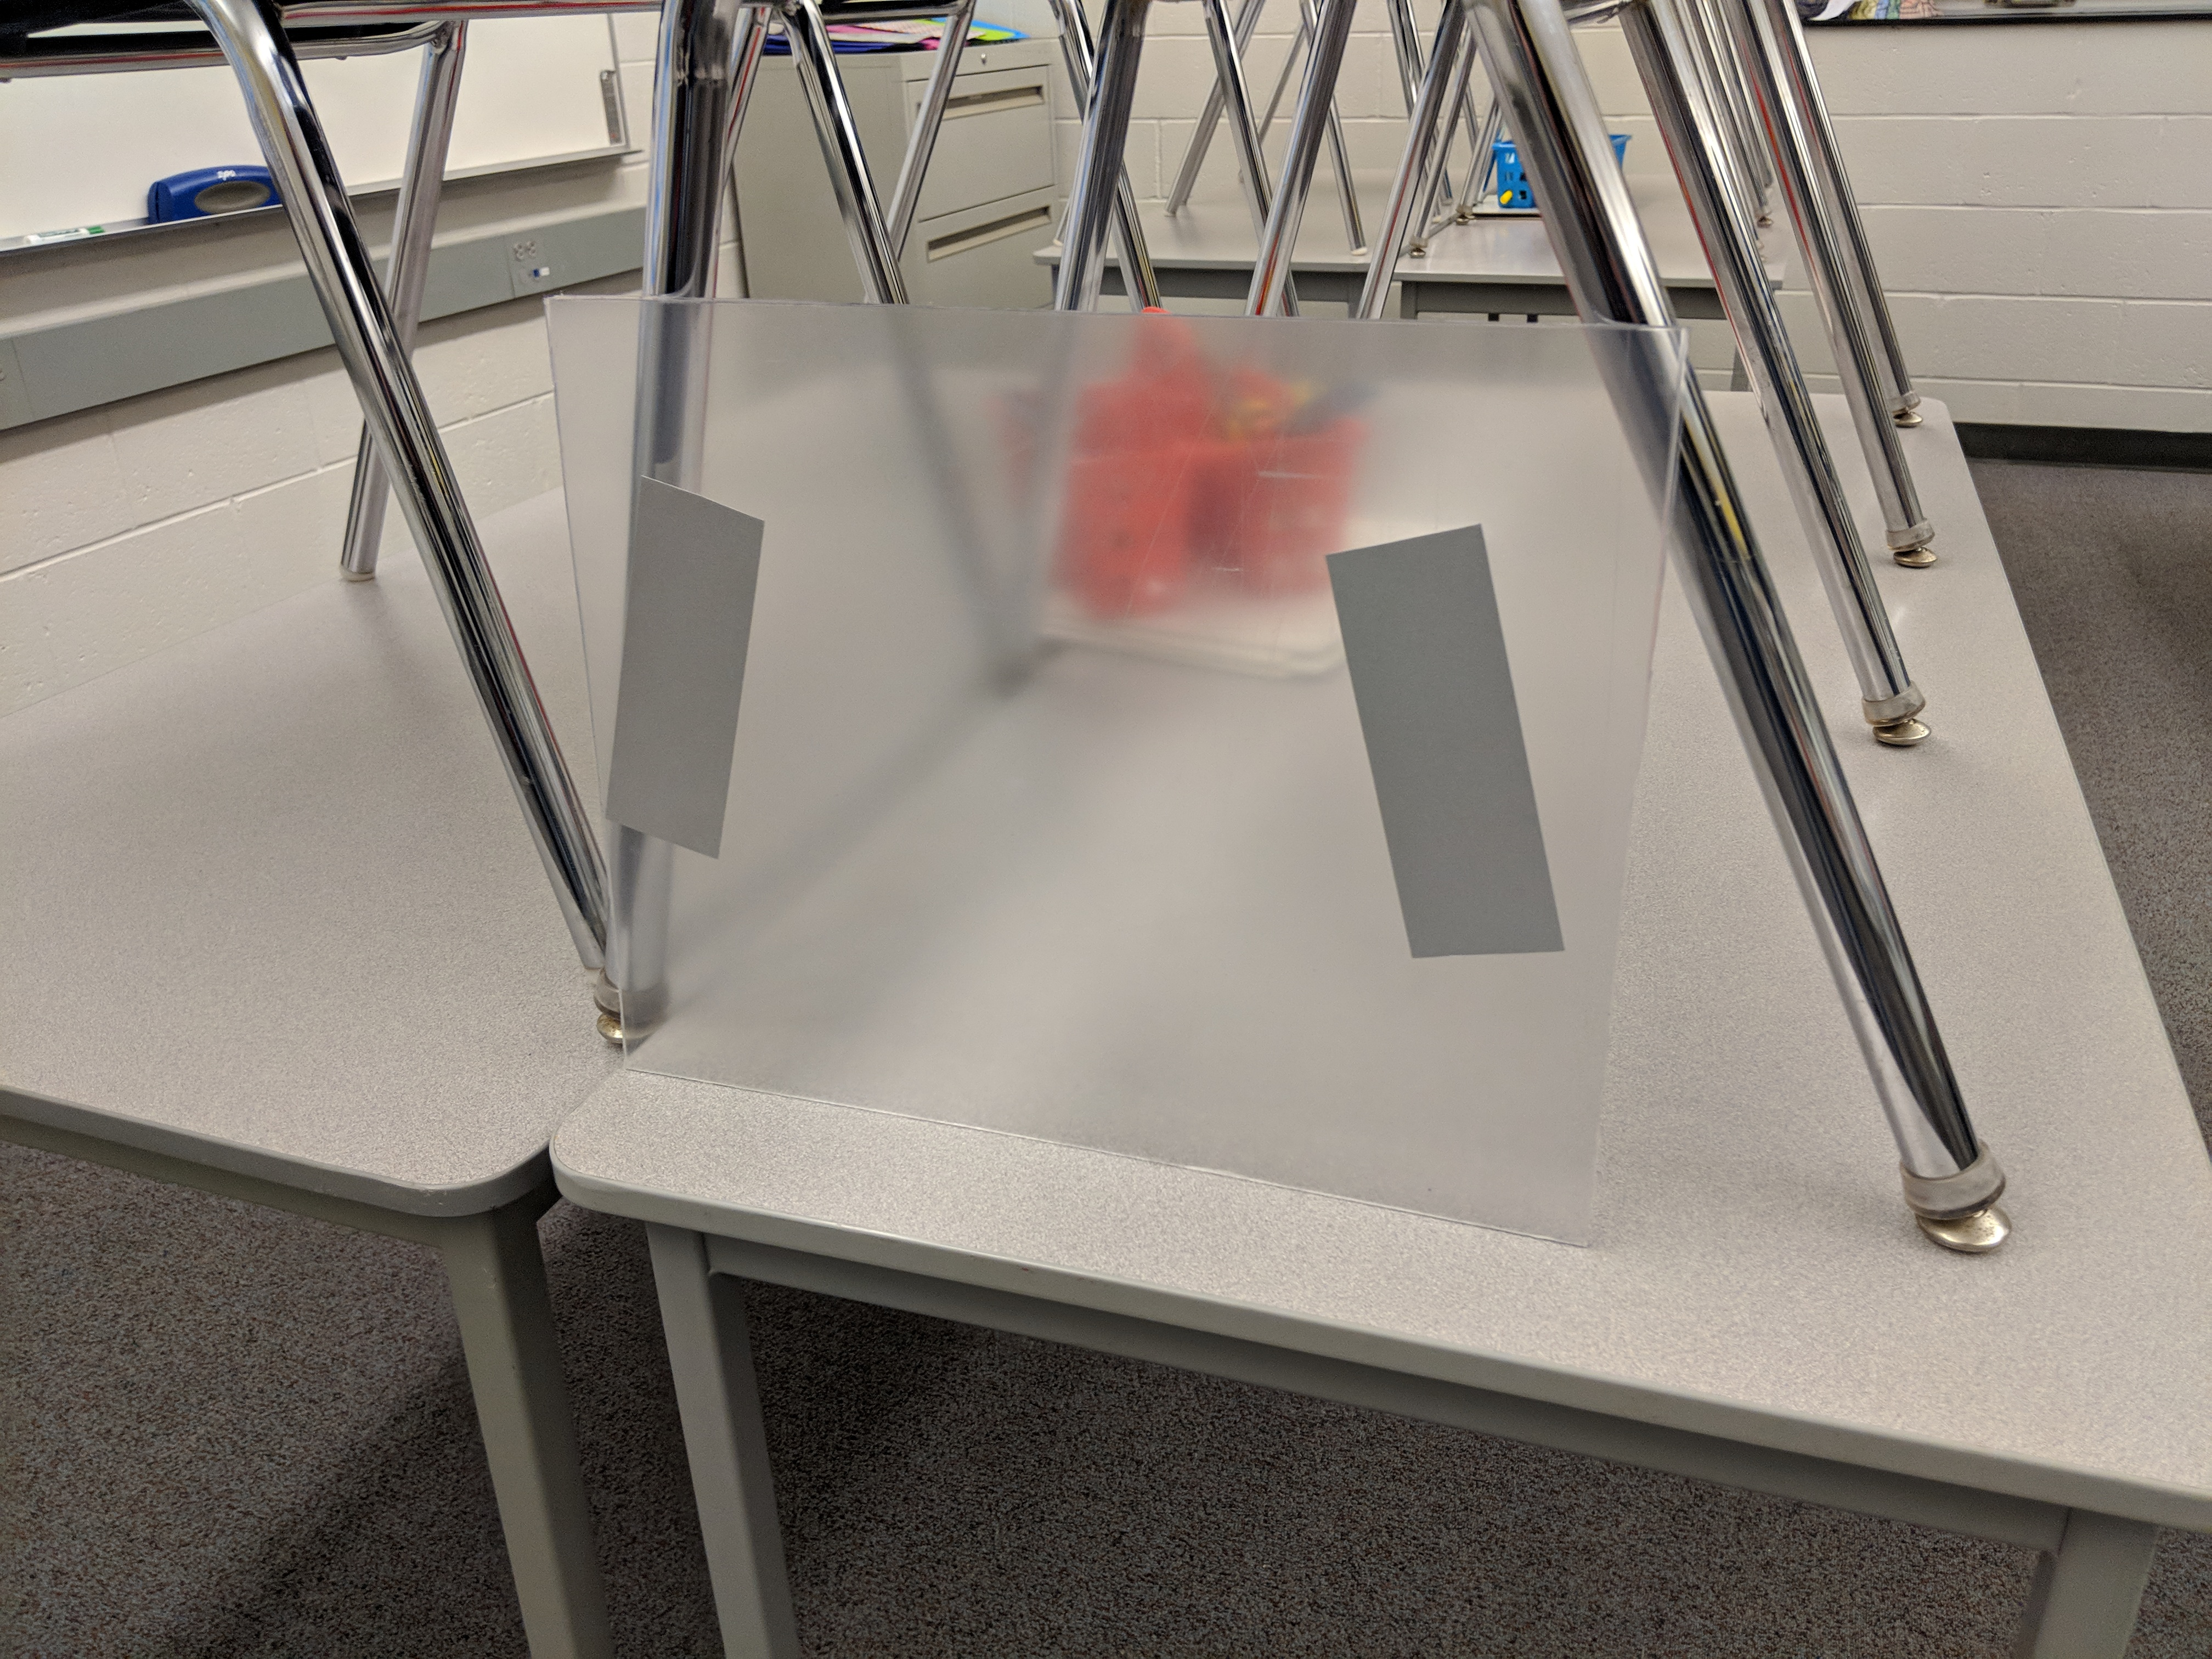vision_target: (596, 462, 1578, 972)
